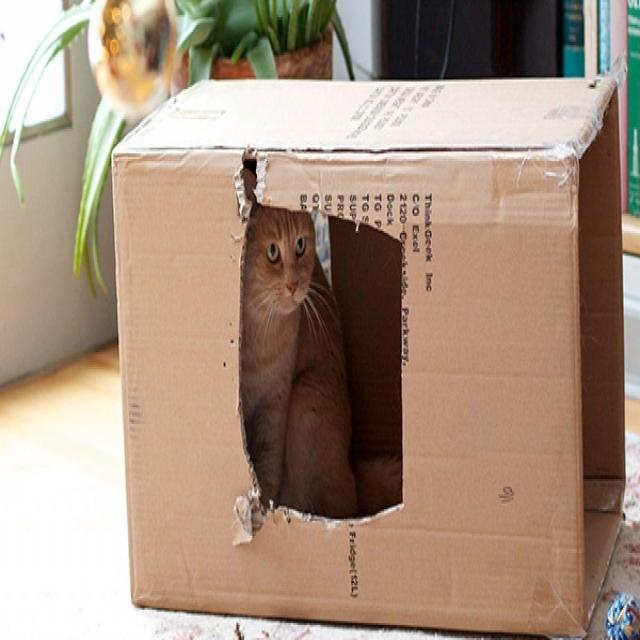cardboard: (112, 77, 627, 640)
